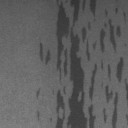red iron: (56, 0, 128, 128), (103, 86, 118, 128), (40, 42, 50, 64), (36, 88, 40, 100), (37, 110, 40, 121), (123, 12, 126, 22), (115, 8, 118, 14), (105, 10, 108, 16)
